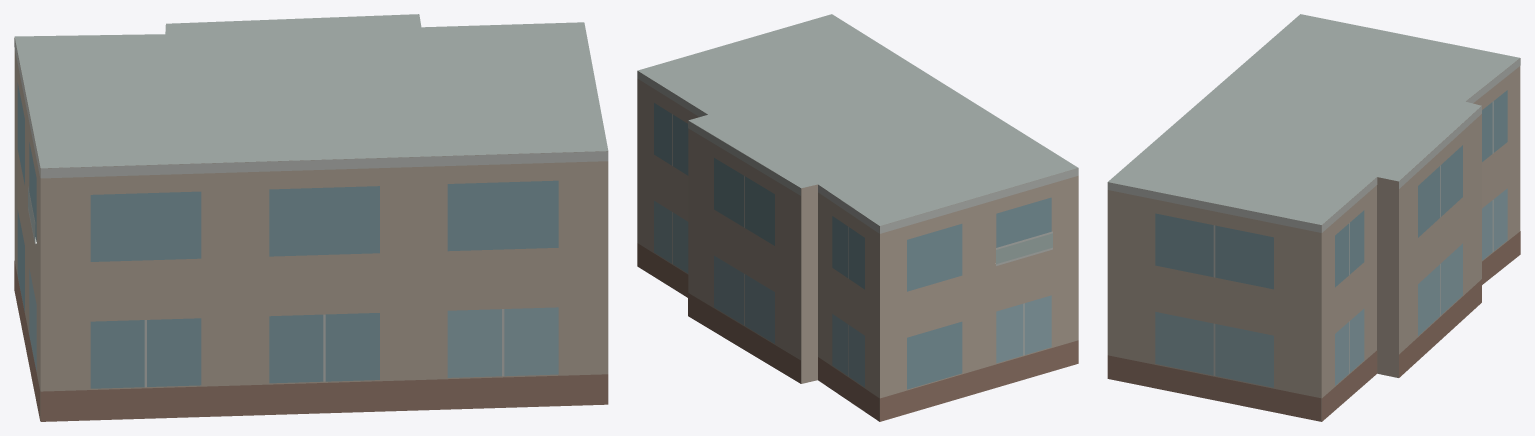
File: survey-upis-32777890.glb
3 renders of one model, left to right at view 1: azimuth 30°, elevation 25°; view 2: azimuth 150°, elevation 25°; view 3: azimuth 270°, elevation 25°, orthographic. The views are drawn at different scales.
Visible parts, largest first — view 1: survey-upis-32777890.tmp; view 2: survey-upis-32777890.tmp; view 3: survey-upis-32777890.tmp.
Boxes of the visible parts, x1=… form: survey-upis-32777890.tmp: x1=14, y1=14, x2=608, y2=421; survey-upis-32777890.tmp: x1=637, y1=14, x2=1078, y2=421; survey-upis-32777890.tmp: x1=1107, y1=14, x2=1520, y2=421.
Size of the model in its own units: 14.05 by 6.1 by 11.61.
